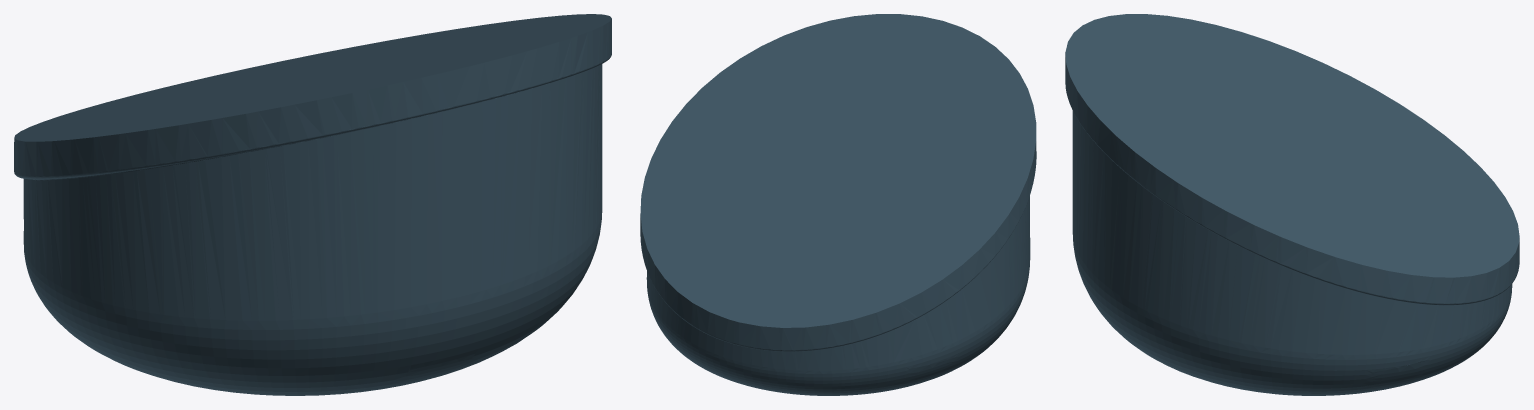
File: forearm_2.obj
3 renders of one model, left to right at view 1: azimuth 30°, elevation 25°; view 2: azimuth 150°, elevation 25°; view 3: azimuth 270°, elevation 25°, orthographic. The views are drawn at different scales.
Size of the model in its own units: 0.0775 by 0.0513 by 0.0775.
